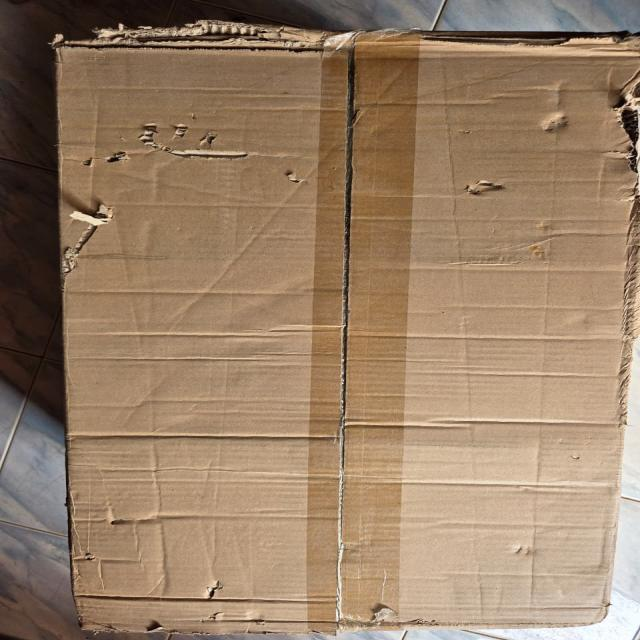carton_box: (28, 8, 640, 640)
package_damage: (52, 523, 508, 640), (53, 114, 319, 272), (463, 73, 640, 238), (30, 14, 372, 66)
